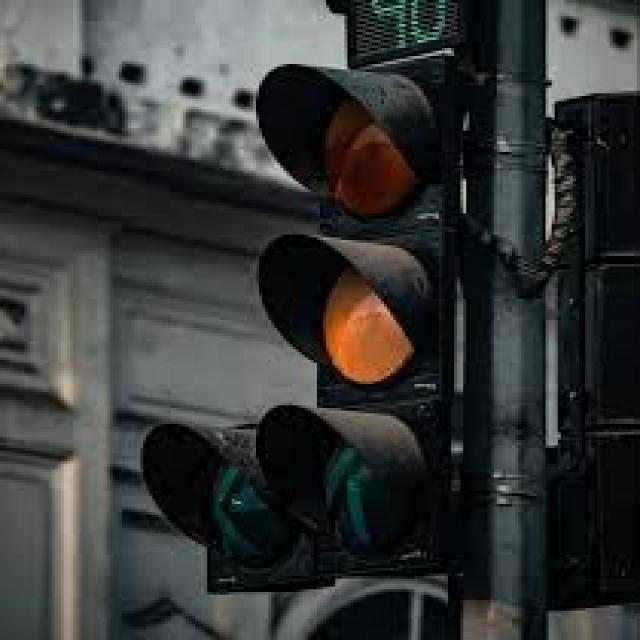yellow_light: (253, 59, 450, 583)
